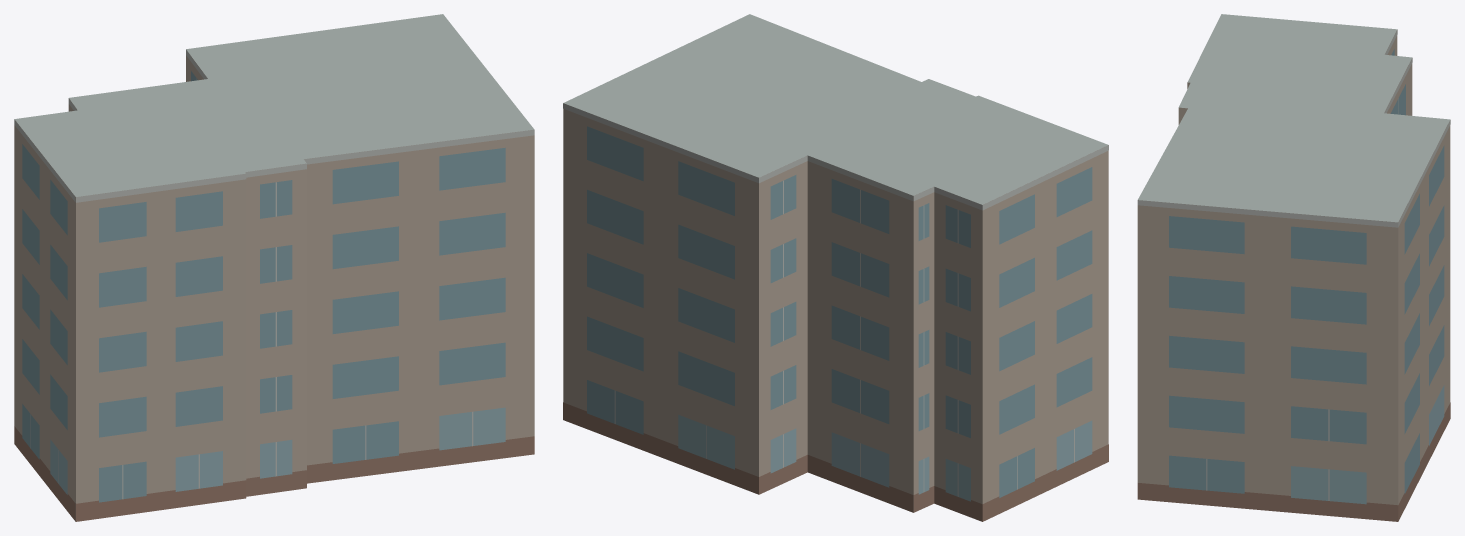
The model's file is survey-upis-32709809.glb.
3 renders of one model, left to right at view 1: azimuth 30°, elevation 25°; view 2: azimuth 150°, elevation 25°; view 3: azimuth 270°, elevation 25°, orthographic. The views are drawn at different scales.
Visible parts, largest first — view 1: survey-upis-32709809.tmp; view 2: survey-upis-32709809.tmp; view 3: survey-upis-32709809.tmp.
Boxes of the visible parts, bbox=[...] form: survey-upis-32709809.tmp: bbox=[14, 14, 534, 521]; survey-upis-32709809.tmp: bbox=[563, 14, 1108, 521]; survey-upis-32709809.tmp: bbox=[1137, 14, 1450, 521].
Bounding box in the file's own units: 20.76 × 13.9 × 13.17.
